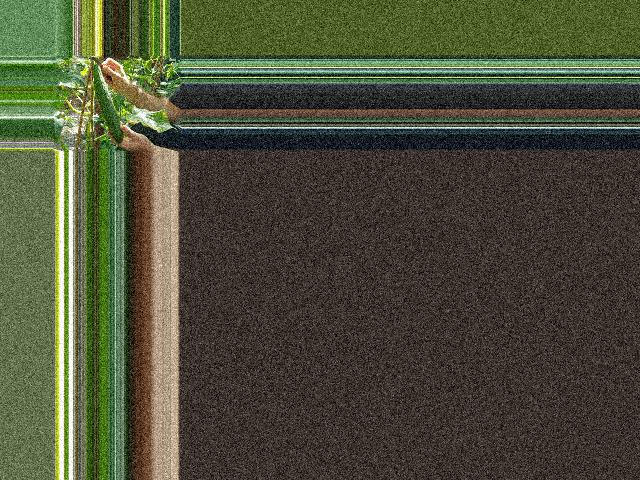cucumber: (93, 65, 123, 143)
